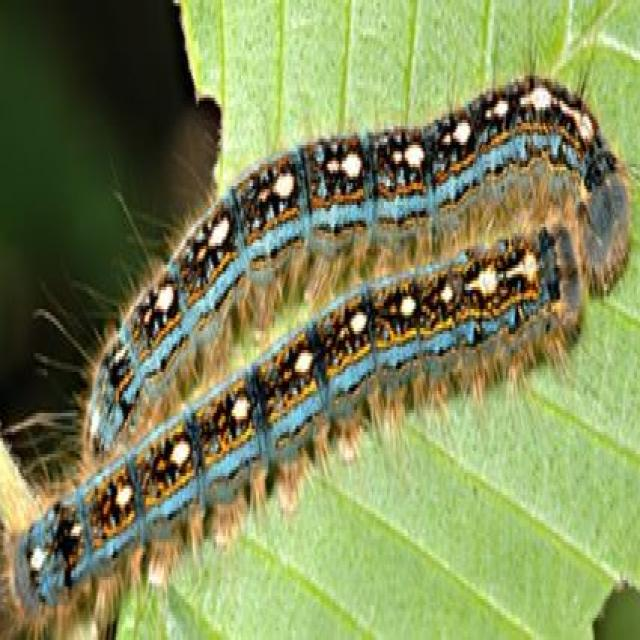pest-armyworm: (6, 66, 632, 630)
